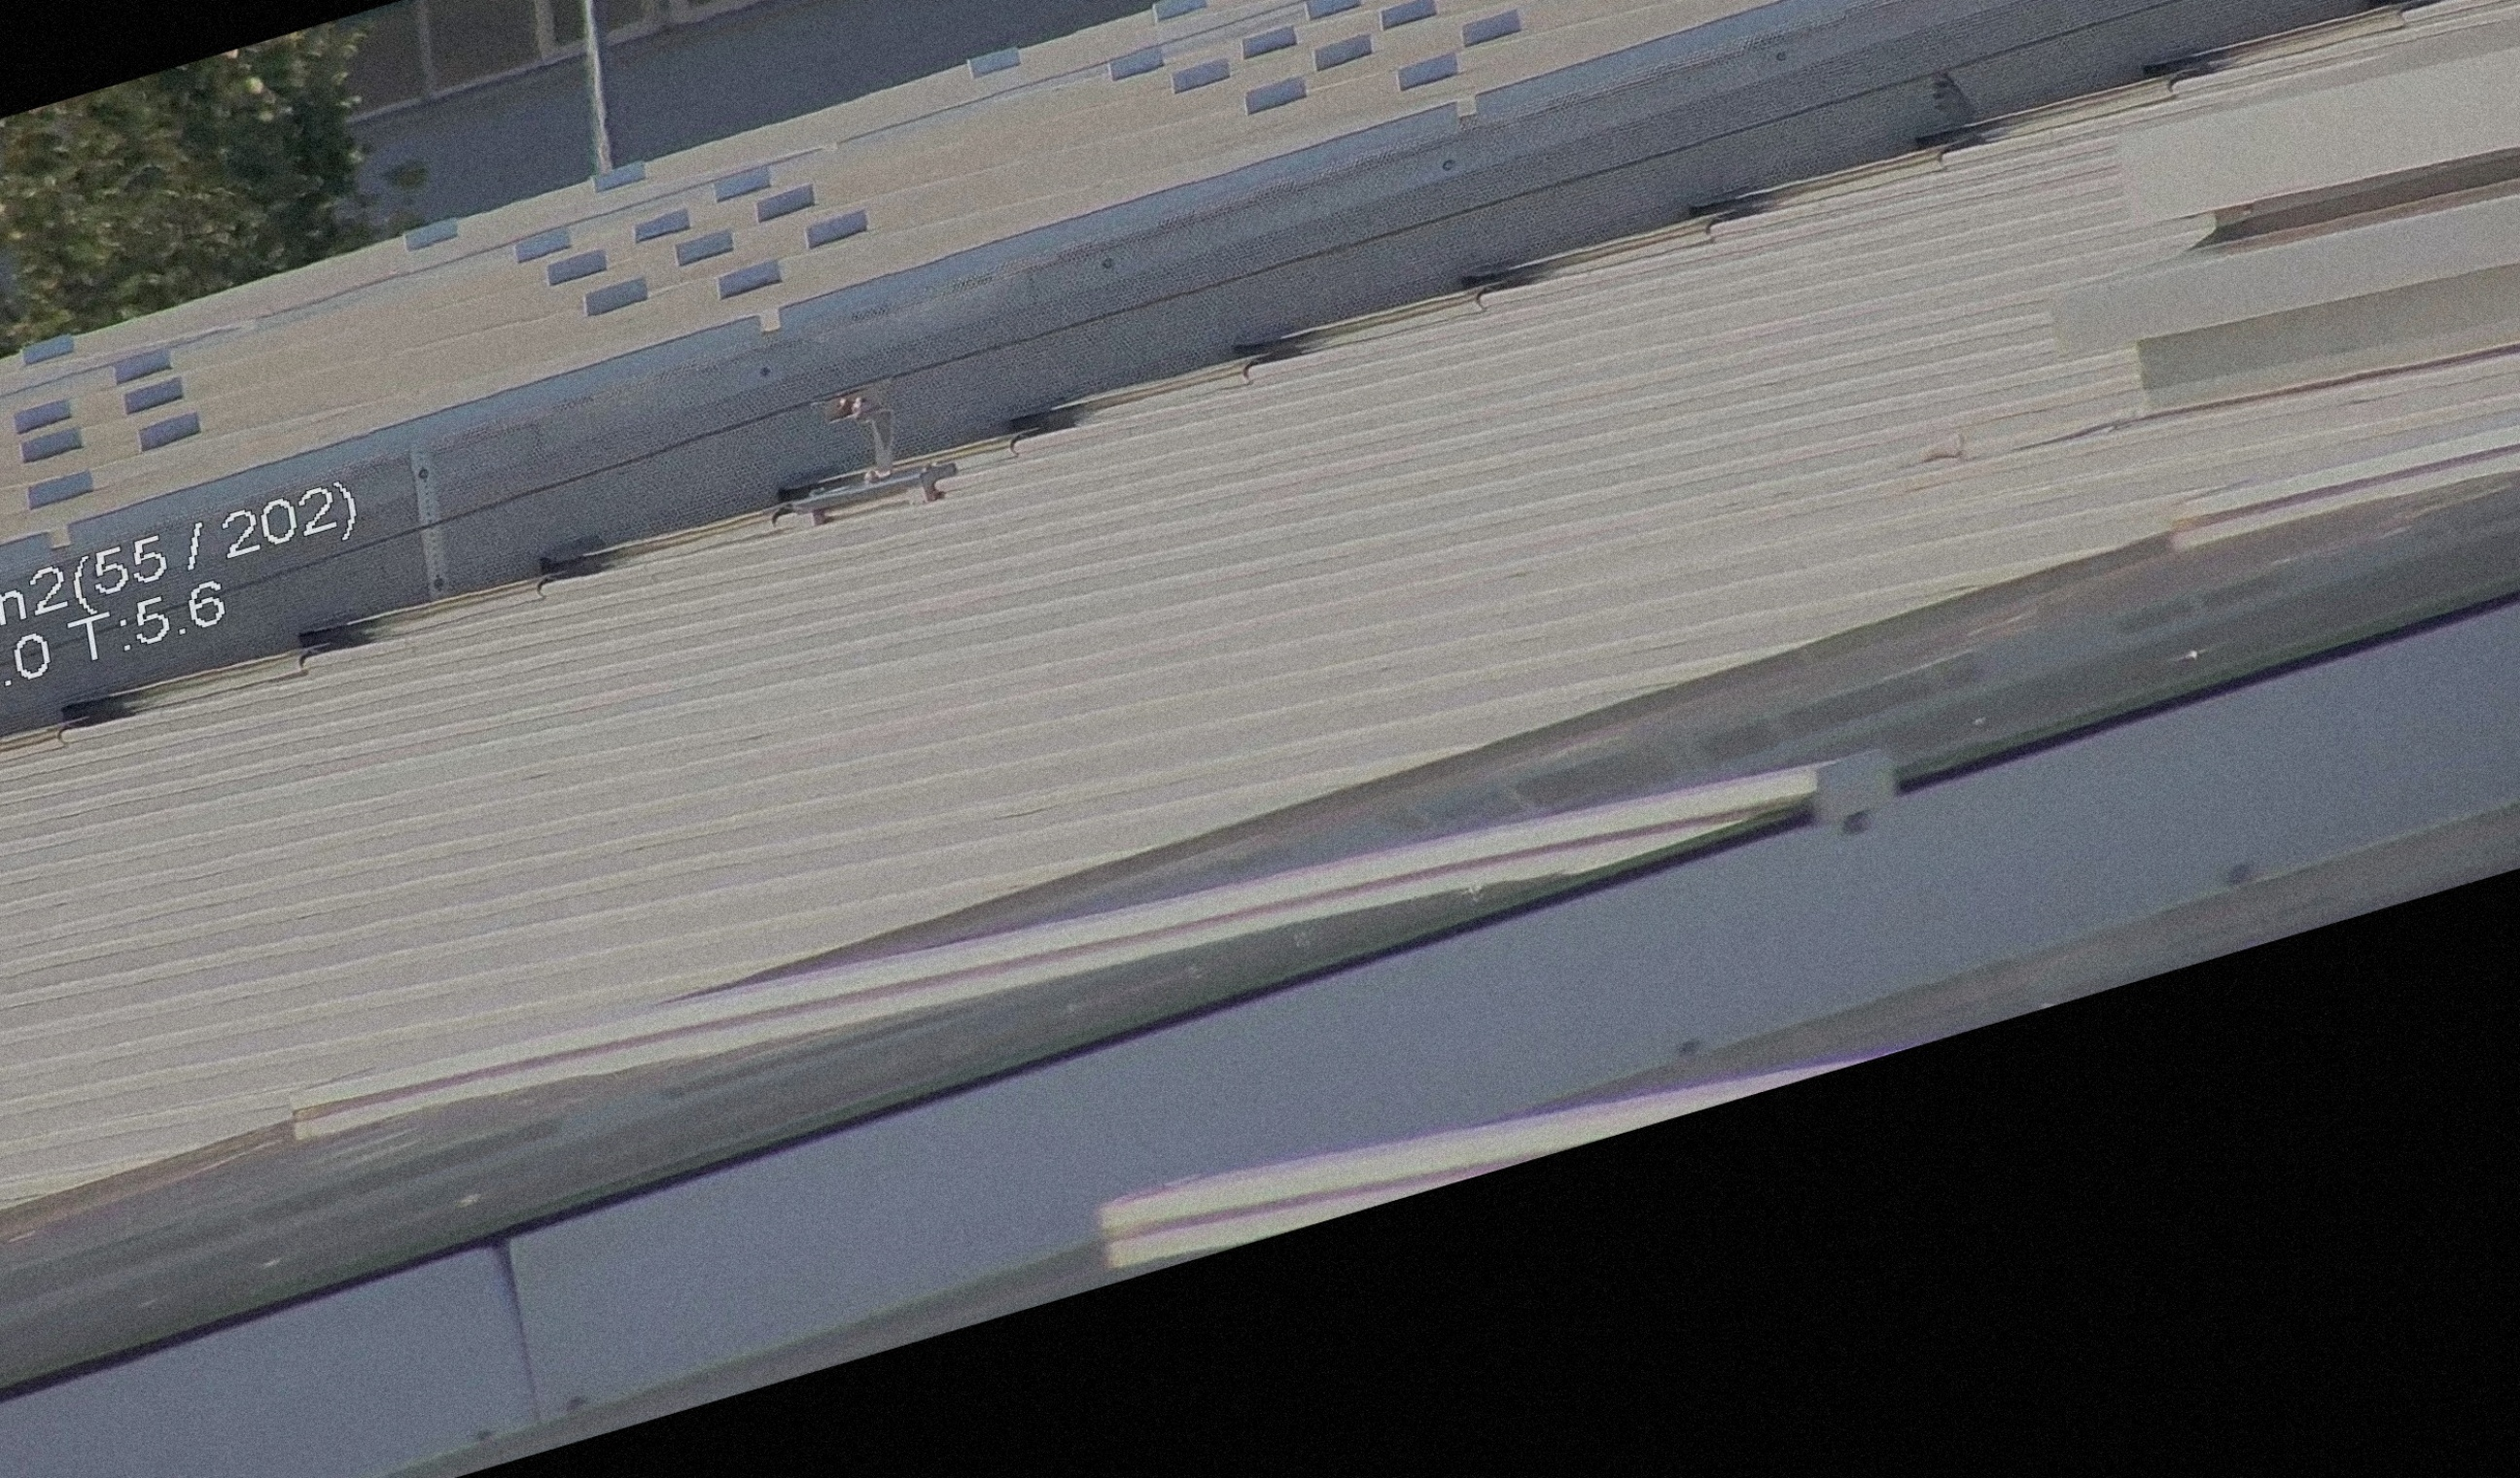Other: (1910, 30, 2026, 164)
